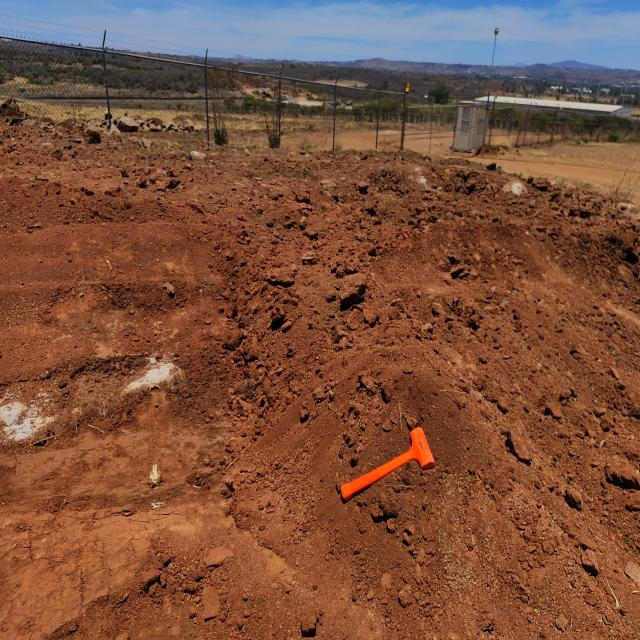Orange_hammer: (339, 426, 435, 504)
